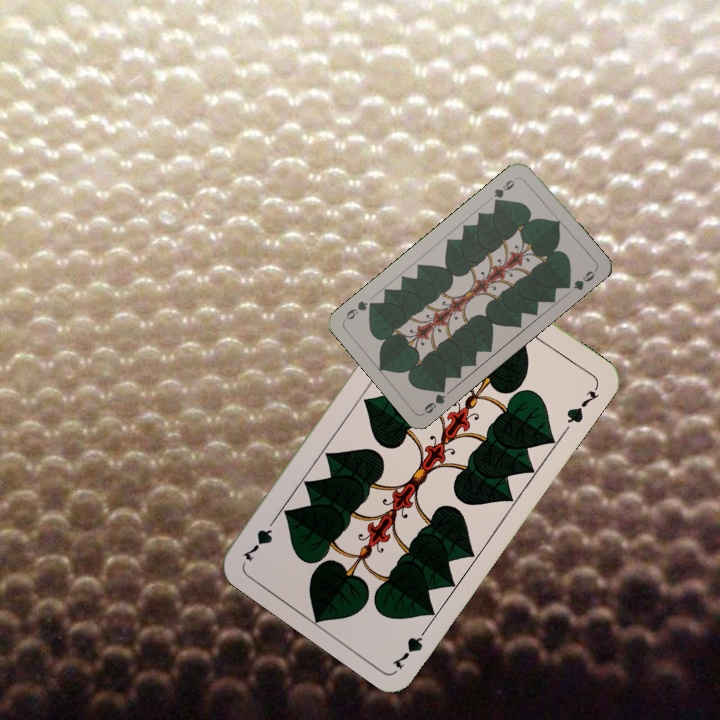G7: (388, 620, 433, 672)
G9: (489, 173, 520, 207), (419, 381, 448, 417)
